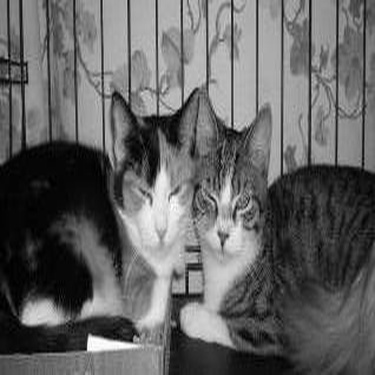cat: (3, 84, 202, 358), (177, 91, 367, 369)
